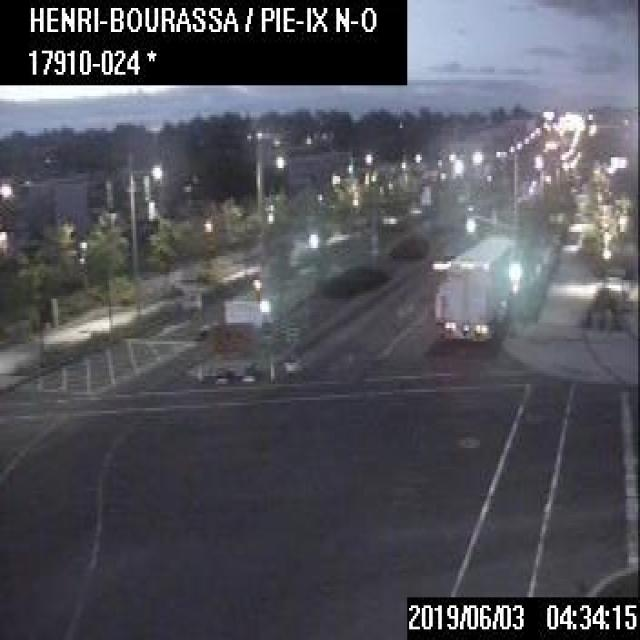construction: (284, 320, 298, 341)
vehicle: (443, 234, 509, 340)
